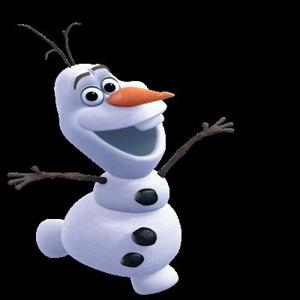olaf: (14, 19, 225, 295)
